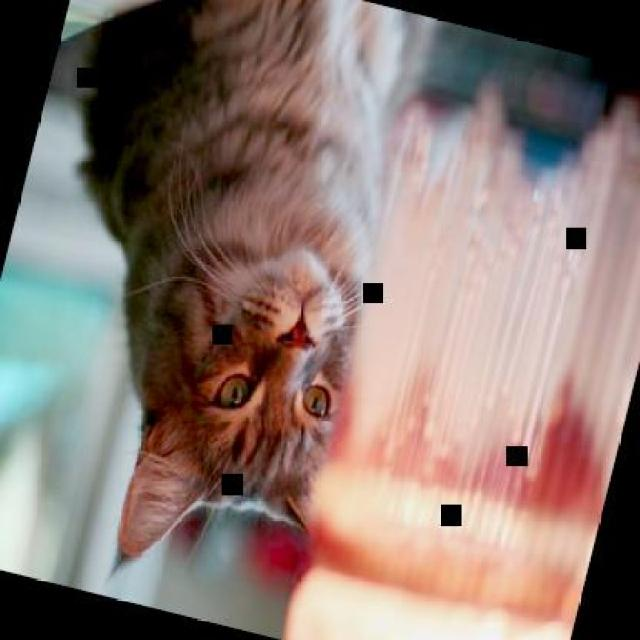cat: (0, 0, 442, 603)
